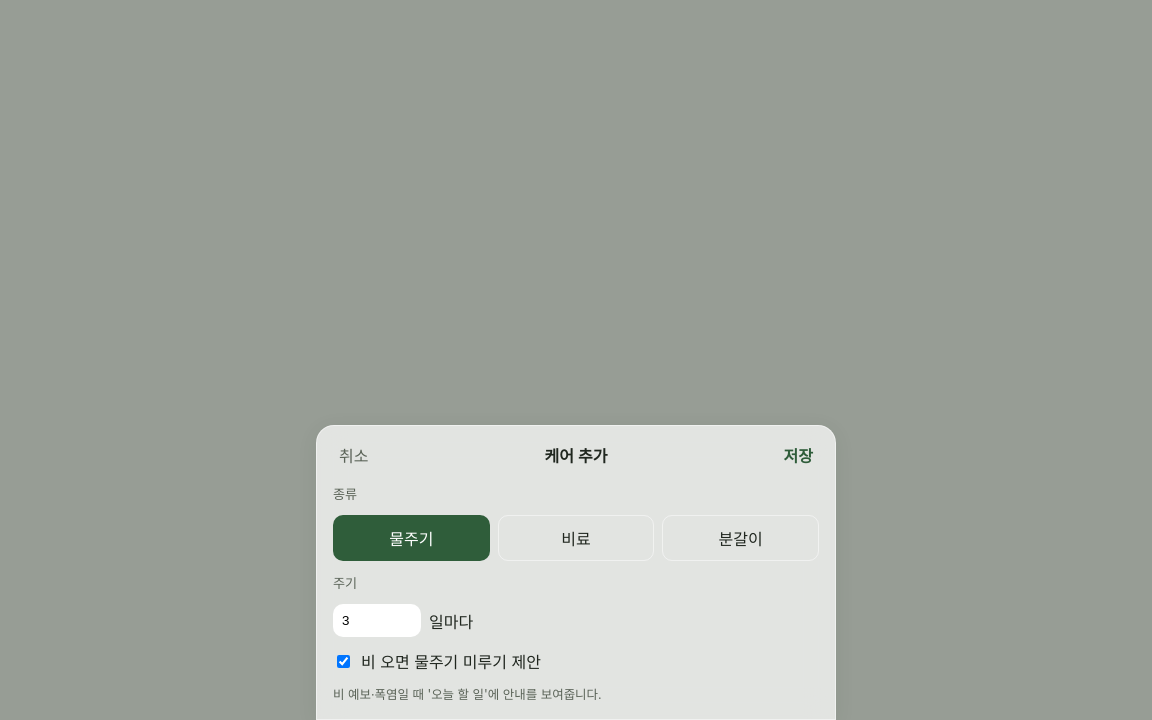
Scenario: CareRuleSheet (추가) › 종류를 비료로 바꾸면 주기가 14로 시드
Click the button "비료" at (576, 538), box [498,515,654,561]
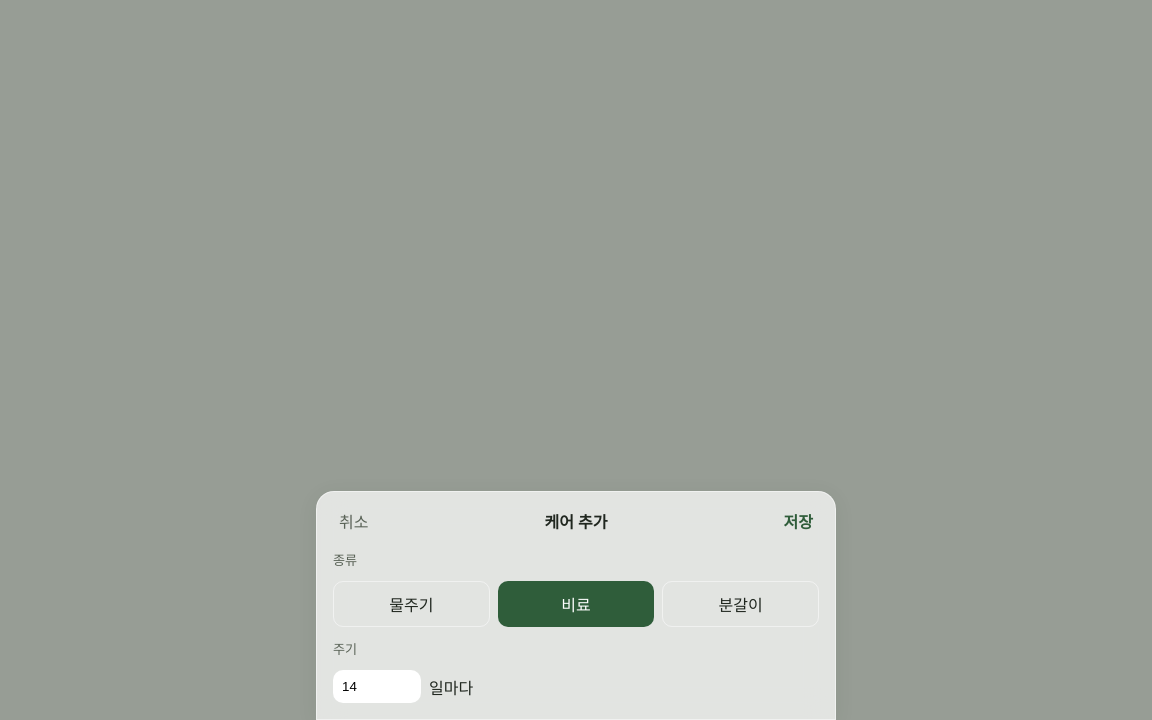
Expected: the number field labelled "주기" holds "14", [333,670,421,703]
